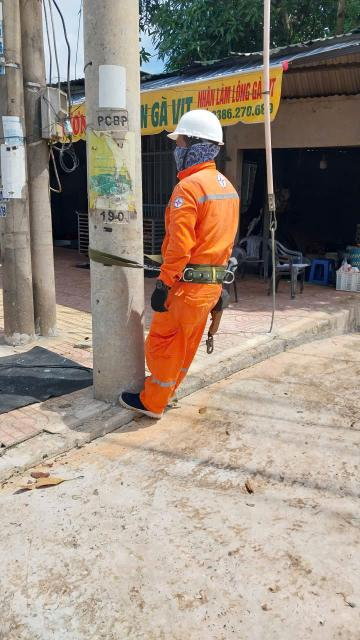gloves: (142, 275, 174, 322)
harness: (139, 254, 244, 289)
helmet: (160, 100, 230, 154)
shoes: (115, 377, 182, 433)
